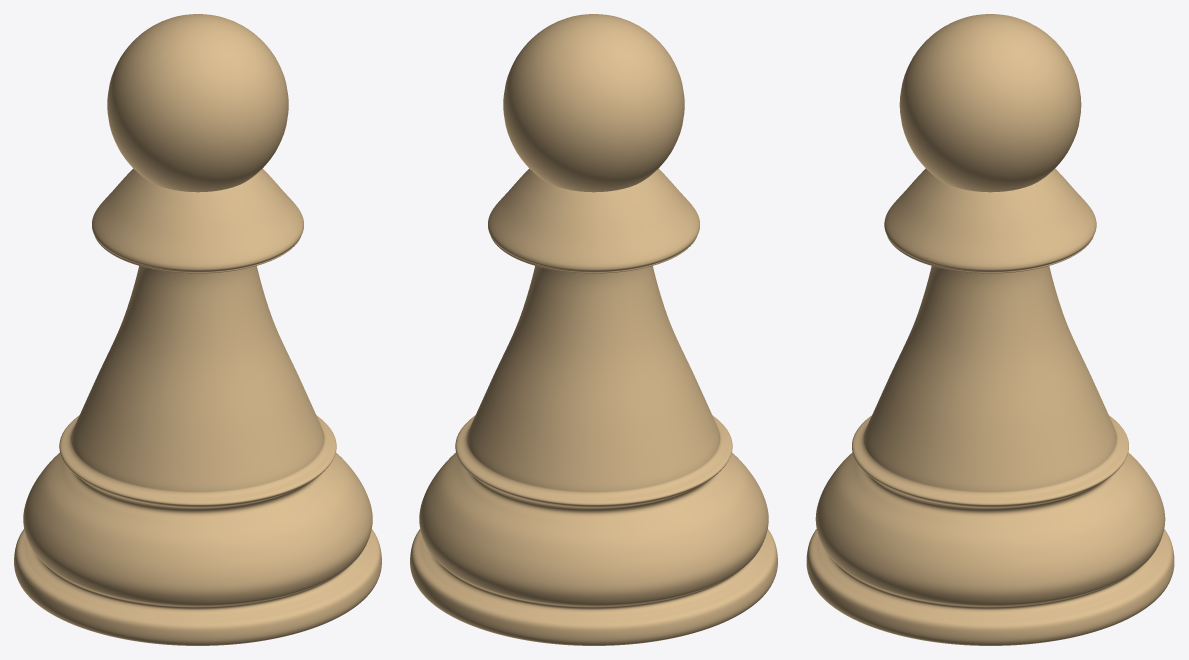
File: pawn.glb
3 views of the same model, side by side, from view 1: azimuth 30°, elevation 25°; view 2: azimuth 150°, elevation 25°; view 3: azimuth 270°, elevation 25° (orthographic).
Parts seen in each view (by area): view 1: Pawn.002; view 2: Pawn.002; view 3: Pawn.002.
Part boxes in pixels (x1,y1,x2,y2): Pawn.002: (14, 14, 381, 645); Pawn.002: (410, 14, 777, 645); Pawn.002: (806, 14, 1174, 645).
Size of the model in its own units: 0.0302 by 0.0504 by 0.0302.
